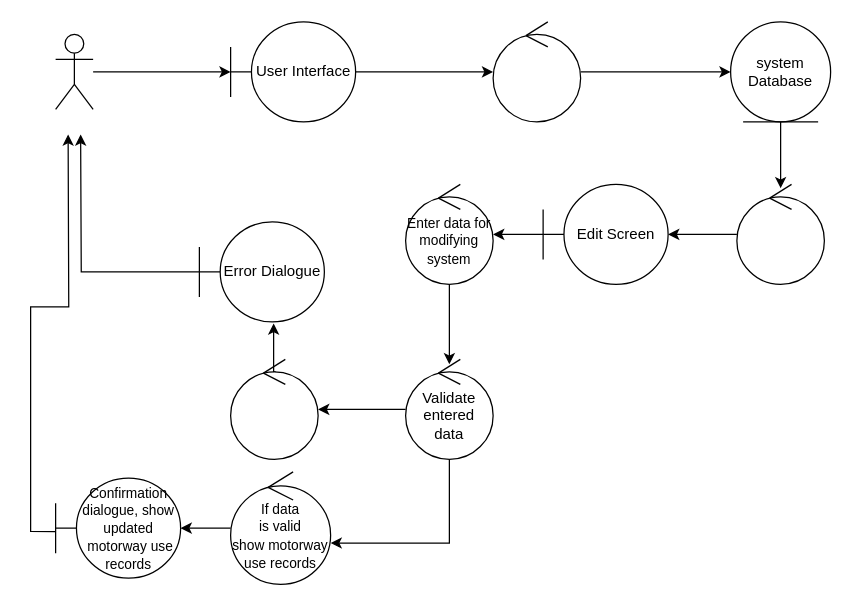
This 853x606 diagram has some shape labels left out. Here are the shapes that lost their labels. From the top down, the centre of each, then its label:
At [73,71]: "User".
At [536,71]: "edit system (motorway use)".
At [780,233]: "Display users motorway use".
At [273,408]: "If data is invalid display error".
